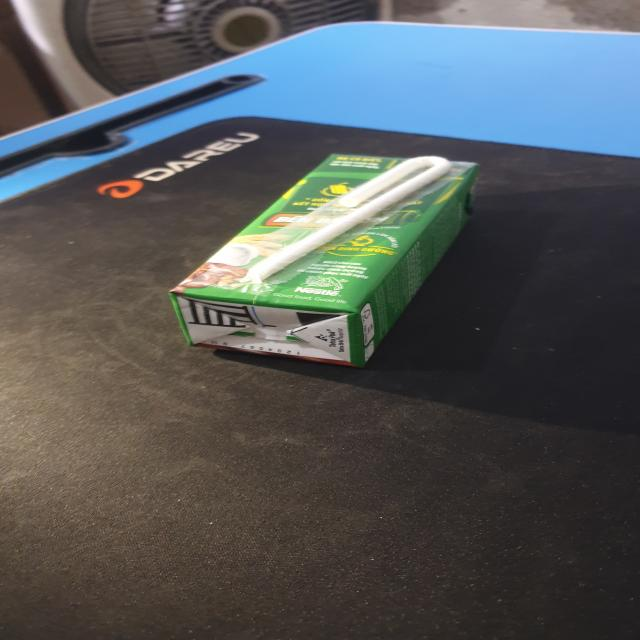Milo: (168, 153, 483, 372)
